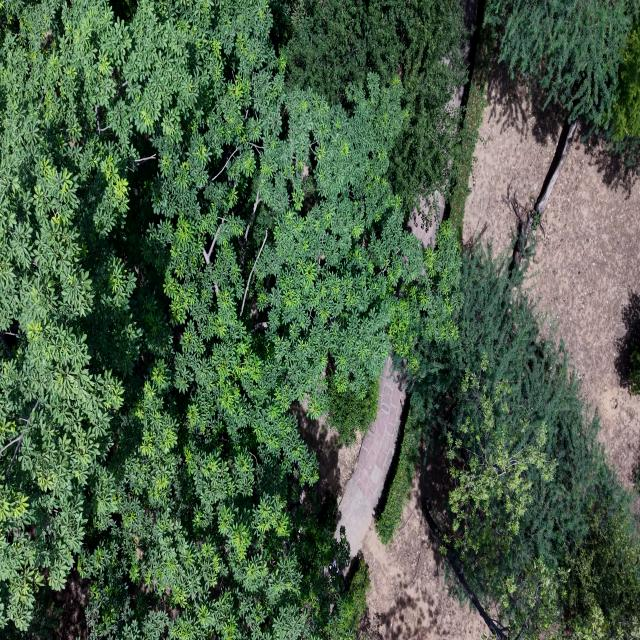DRY_AREA: (296, 360, 487, 639), (338, 360, 487, 639), (337, 360, 486, 639), (526, 139, 639, 488), (526, 140, 639, 488), (526, 139, 639, 487), (527, 139, 639, 487), (528, 150, 639, 487), (298, 359, 409, 582), (292, 358, 405, 556), (357, 475, 487, 639), (358, 479, 487, 639), (362, 478, 487, 639), (358, 486, 486, 639), (291, 359, 404, 505), (291, 360, 403, 504), (335, 358, 405, 556), (335, 358, 405, 555), (335, 358, 404, 556), (339, 359, 404, 518), (290, 401, 361, 508), (291, 403, 361, 503), (46, 567, 89, 639), (408, 191, 444, 247), (459, 0, 482, 66), (460, 0, 480, 63)
PATHWAYS: (335, 359, 404, 555)
VEGETATION_TREE: (0, 0, 639, 639), (0, 0, 456, 639), (78, 80, 432, 637), (398, 250, 639, 639), (272, 0, 463, 214), (484, 0, 639, 218), (484, 0, 636, 126), (389, 221, 462, 388), (388, 221, 461, 376), (562, 493, 639, 639), (448, 27, 492, 242), (375, 424, 420, 544), (608, 7, 639, 170), (610, 12, 639, 141), (326, 556, 368, 639), (327, 376, 378, 444), (615, 291, 639, 396), (608, 137, 639, 173), (628, 342, 639, 394)
